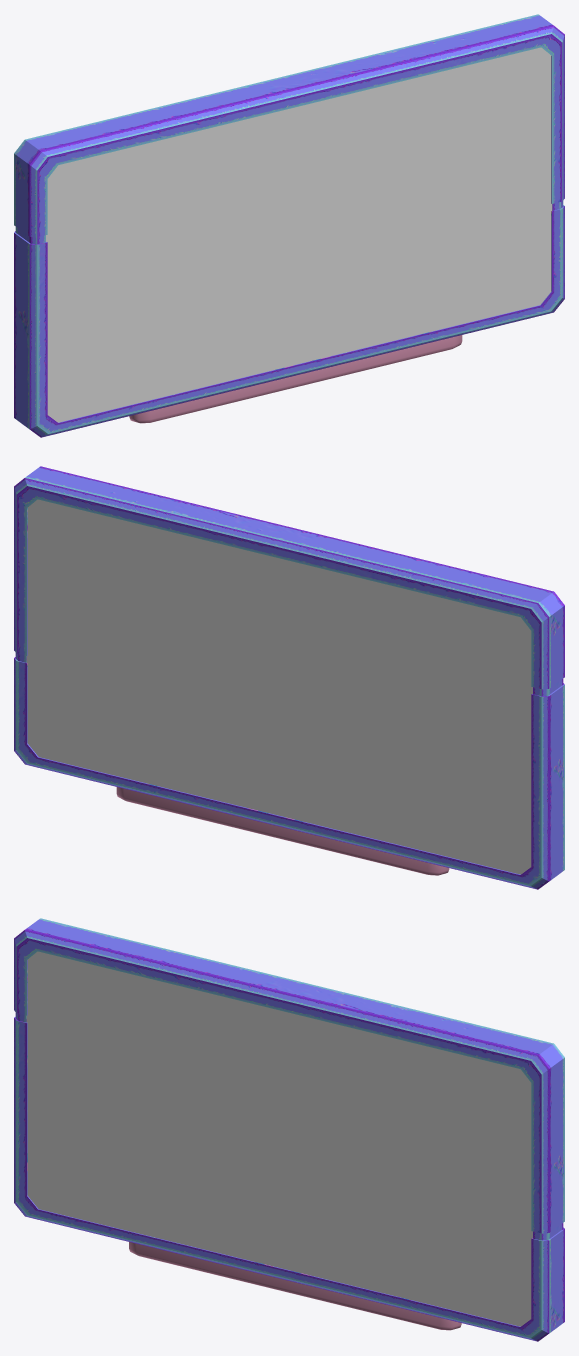
File: Wallrun14m.fbx
The picture shows the model from 3 angles, top to bottom: view 1: azimuth 30°, elevation 25°; view 2: azimuth 150°, elevation 25°; view 3: azimuth 330°, elevation 25°; orthographic projection.
Visible parts, largest first — view 1: Cube.106, Cube.105, Cylinder.011; view 2: Cube.106, Cube.105, Cylinder.011; view 3: Cube.106, Cube.105, Cylinder.011.
Boxes of the visible parts, box(x1,y1,x2,y2) form: Cube.106: box(46, 47, 552, 422); Cube.105: box(14, 14, 564, 437); Cylinder.011: box(129, 335, 462, 423); Cube.106: box(26, 499, 532, 874); Cube.105: box(14, 466, 564, 889); Cylinder.011: box(116, 787, 449, 875); Cube.106: box(26, 951, 532, 1326); Cube.105: box(14, 918, 564, 1341); Cylinder.011: box(129, 1242, 461, 1330).
Size of the model in its own units: 14.25 by 7.65 by 0.9504.
